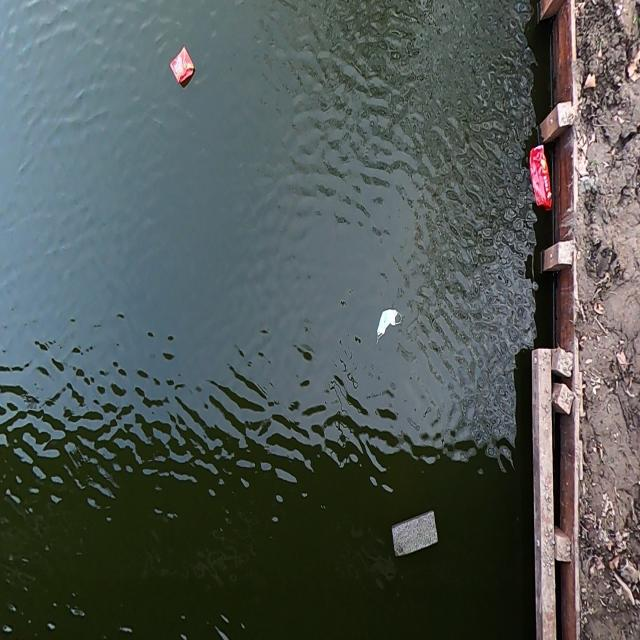Autre plastique: (387, 506, 443, 566), (527, 140, 557, 213), (166, 41, 201, 92)
Non plastique: (371, 306, 406, 344)
